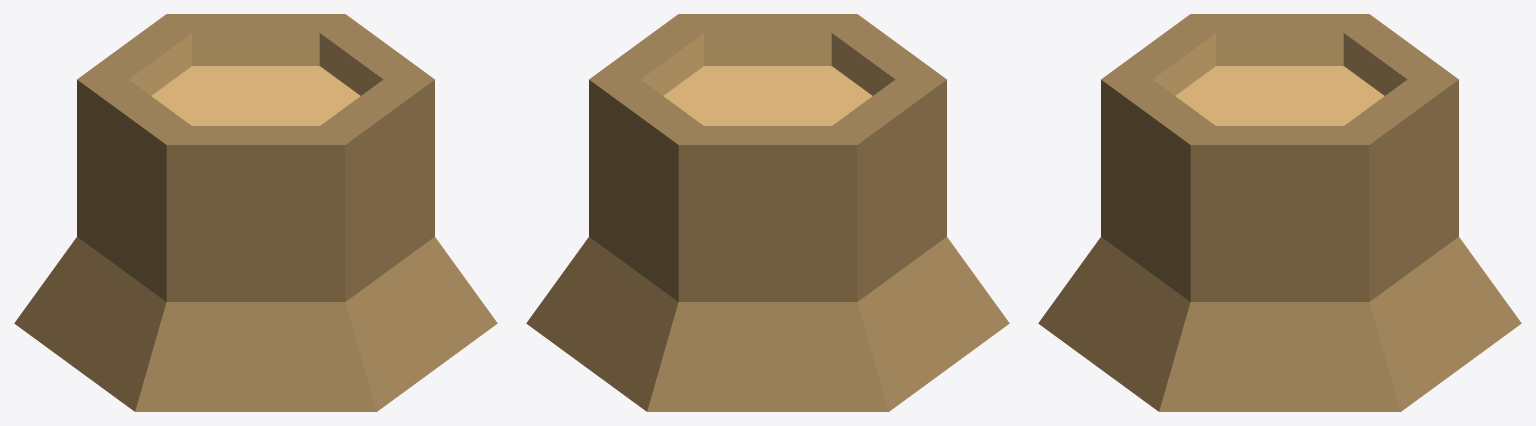
The model's file is naturePack_079.fbx.
3 renders of one model, left to right at view 1: azimuth 30°, elevation 25°; view 2: azimuth 150°, elevation 25°; view 3: azimuth 270°, elevation 25°, orthographic.
Visible parts, largest first — view 1: Mesh1_Group1 Model; view 2: Mesh1_Group1 Model; view 3: Mesh1_Group1 Model.
Boxes of the visible parts, bbox=[...] form: Mesh1_Group1 Model: bbox=[14, 14, 497, 411]; Mesh1_Group1 Model: bbox=[526, 14, 1009, 411]; Mesh1_Group1 Model: bbox=[1038, 14, 1521, 411].
Bounding box in the file's own units: 0.918 × 0.59 × 1.06.
